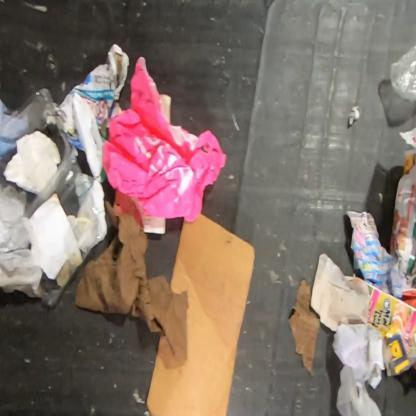cardboard: (146, 213, 257, 415), (75, 188, 189, 369), (310, 253, 415, 358), (287, 280, 320, 378), (401, 289, 415, 309)
rigid_plastic: (0, 87, 84, 219)
soft_plastic: (102, 56, 227, 222), (389, 42, 416, 102)
